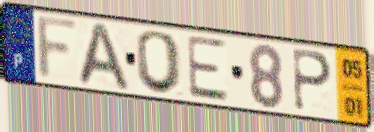8: (247, 42, 286, 111)
A: (74, 20, 133, 94)
E: (184, 33, 231, 104)
F: (35, 13, 82, 83)
O: (134, 29, 185, 97)
P: (291, 46, 334, 115)
